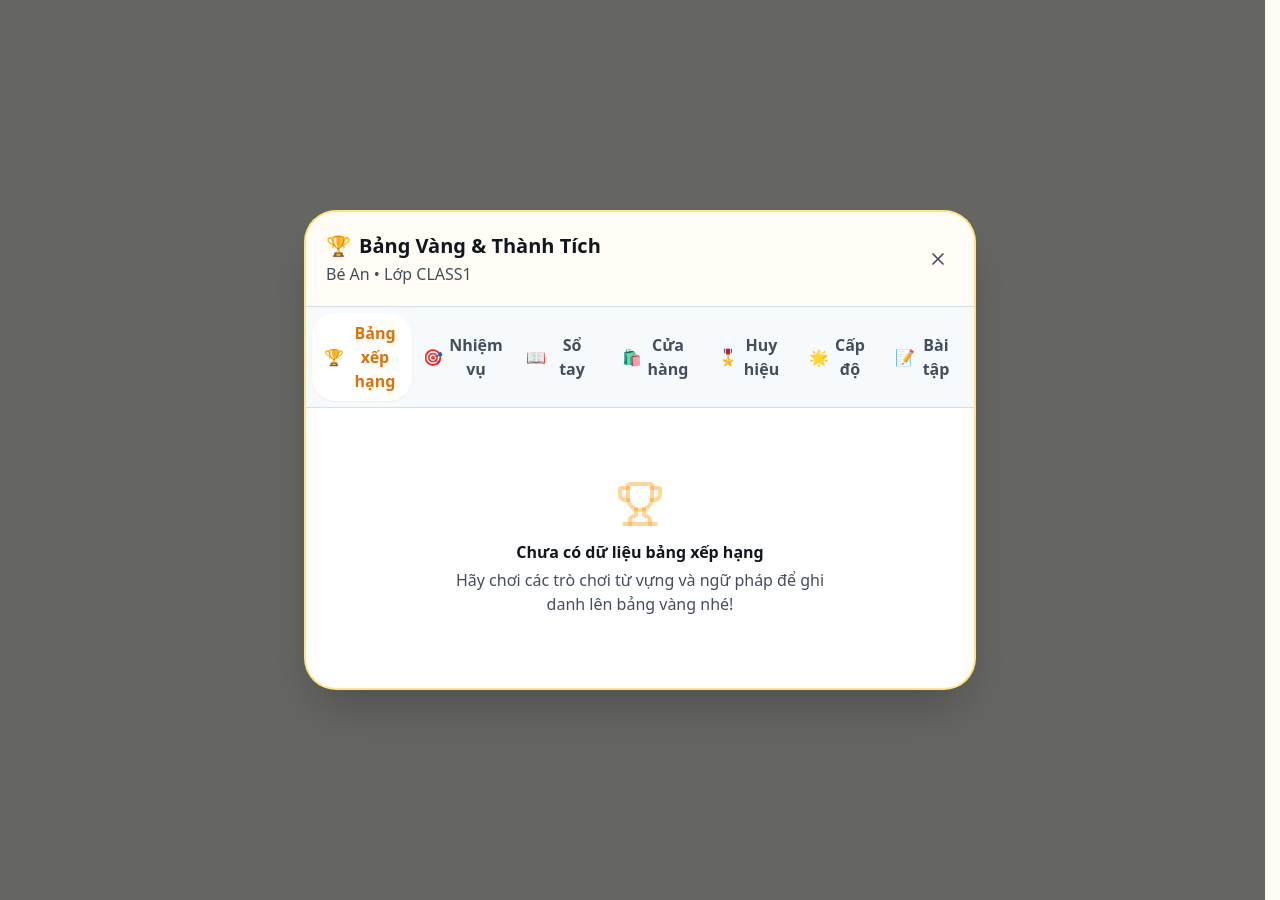
Test case: StudentGamificationModal Component › switches to Bài tập tab and renders assignments view
Click the tab "📝 Bài tập": [923, 357] box [883,313,963,401]
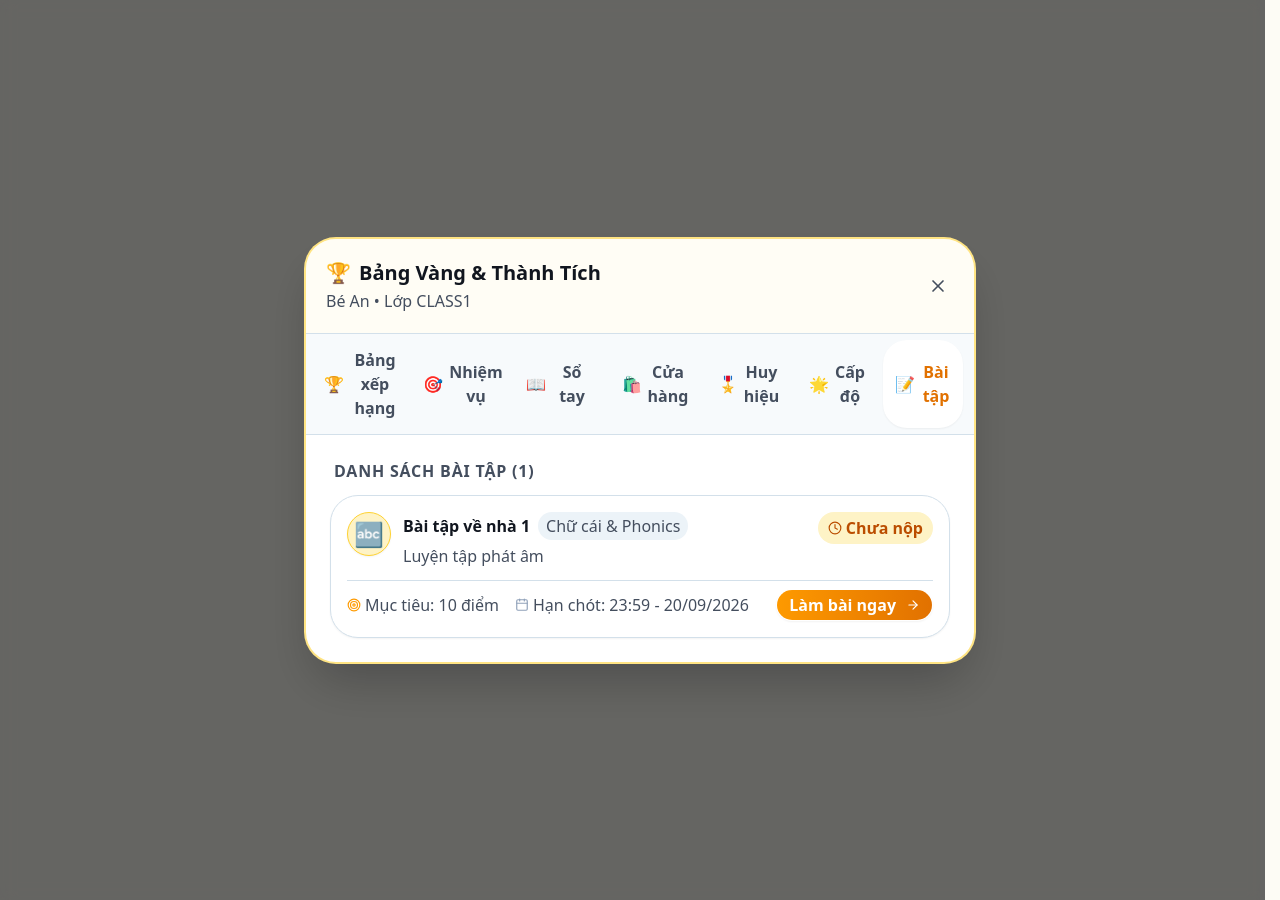
Now the heading "Bài tập về nhà 1" is shown, box [403,514,530,538]
Now the text "Chưa nộp" is shown, box [818,512,933,544]
